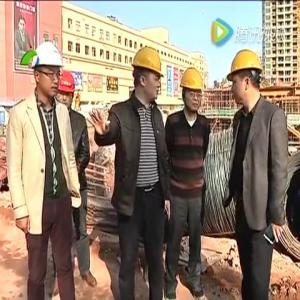red: (57, 71, 76, 110)
white: (32, 41, 62, 97)
yellow: (229, 47, 262, 107), (132, 47, 163, 100), (180, 65, 205, 113)
